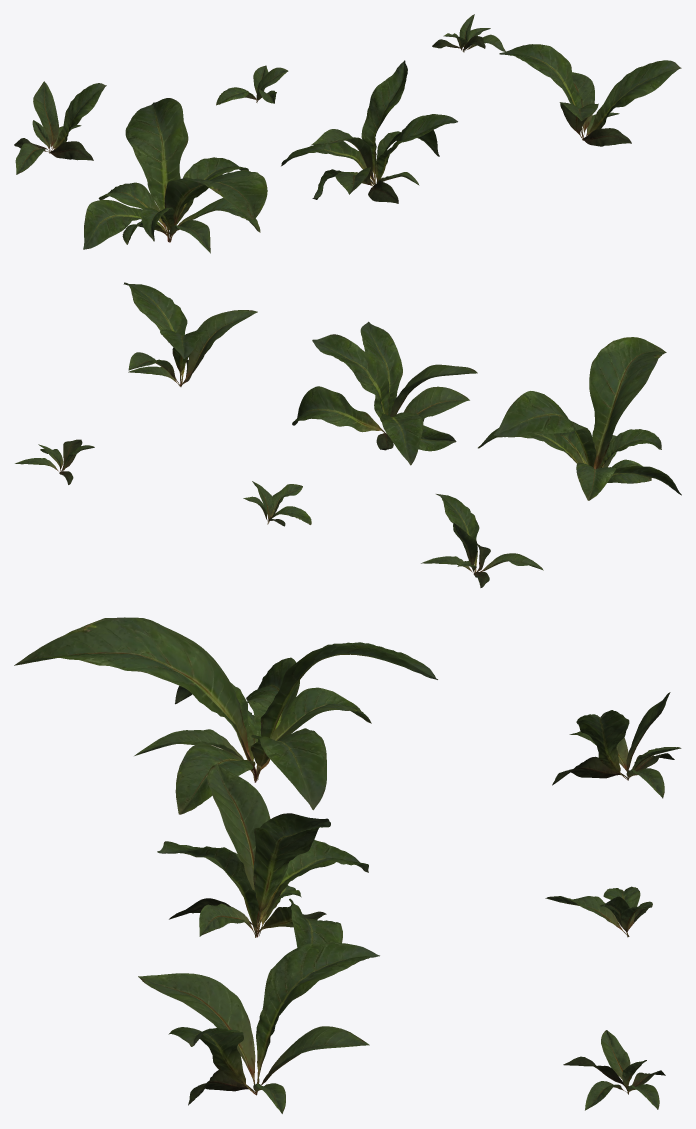
Rendered from anthurium_botany_01.glb.
The picture shows the model from 3 angles, top to bottom: view 1: azimuth 30°, elevation 25°; view 2: azimuth 150°, elevation 25°; view 3: azimuth 270°, elevation 25°; orthographic projection. The views are drawn at different scales.
Visible parts, largest first — view 1: anthurium_botany_01_a; view 2: anthurium_botany_01_a; view 3: anthurium_botany_01_a.
Part boxes in pixels (<box>): anthurium_botany_01_a: <box>14,14,681,253</box>; anthurium_botany_01_a: <box>15,282,681,587</box>; anthurium_botany_01_a: <box>14,617,681,1113</box>.
Size of the model in its own units: 2.8 by 0.4994 by 1.8.
Materials: 1 (1 with a texture image).
